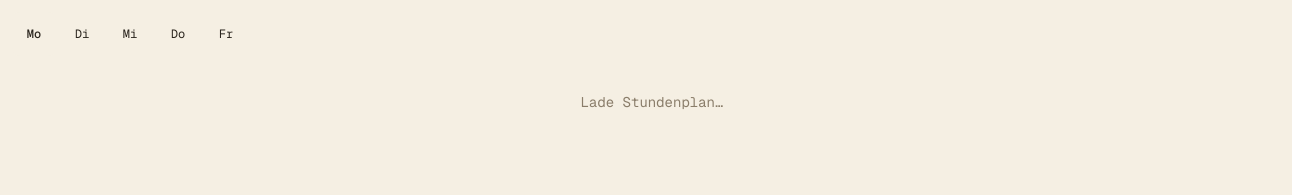
Test: ScheduleWidget › sortiert Einträge nach Startzeit
Click the button "Mo": (34, 34) [12,12,56,56]
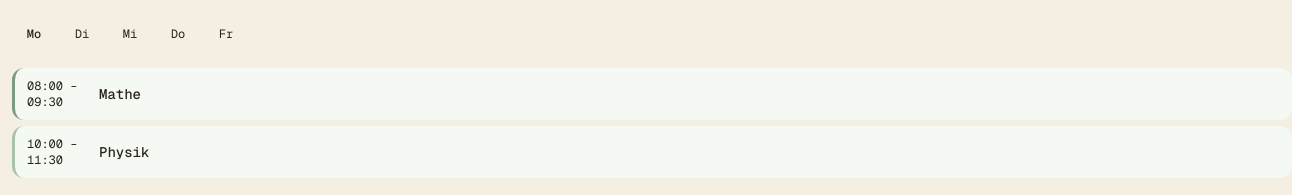
Result: the text "Mathe" is shown at [99,85,141,103]
Result: the text "Physik" is shown at [99,143,149,161]
